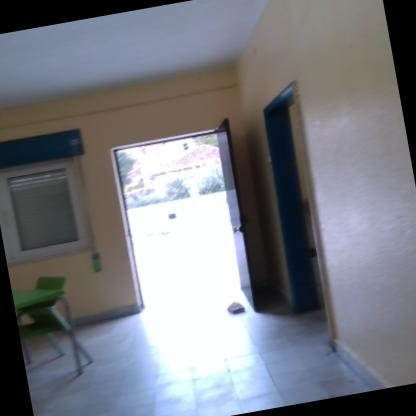open: (92, 110, 272, 324), (246, 86, 350, 346)
